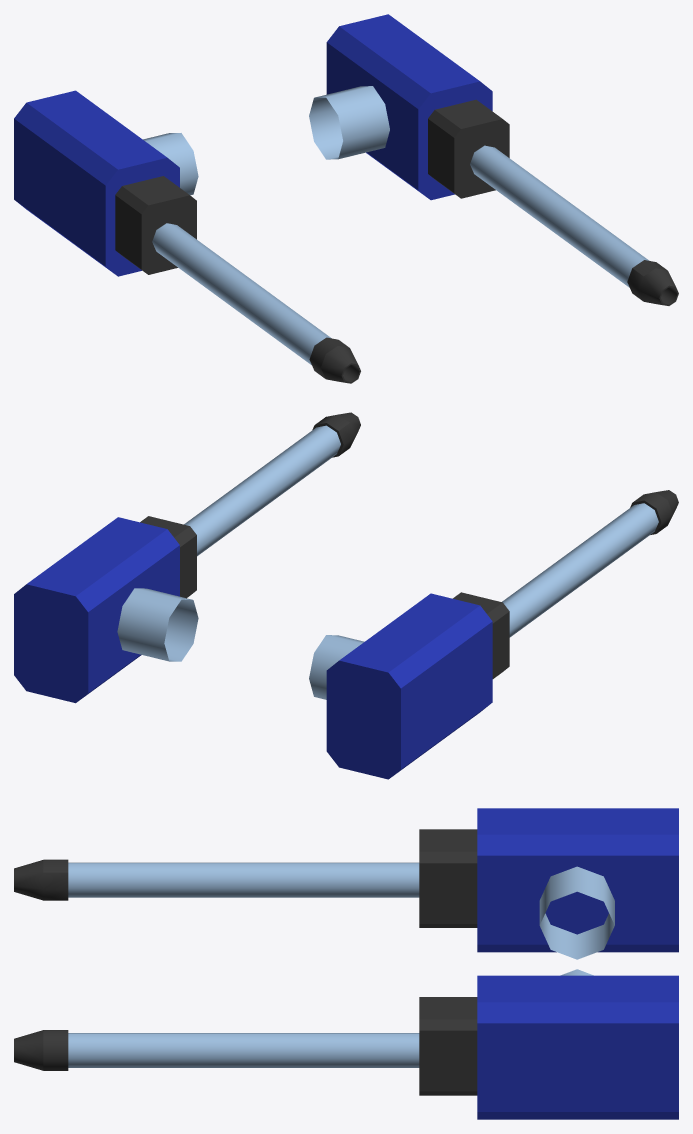
File: Turret_Gun.FBX
3 views of the same model, one above another, from view 1: azimuth 30°, elevation 25°; view 2: azimuth 150°, elevation 25°; view 3: azimuth 270°, elevation 25° (orthographic). The views are drawn at different scales.
Parts seen in each view (by area): view 1: Barrel; view 2: Barrel; view 3: Barrel.
Part boxes in pixels (x1=…): Barrel: x1=14, y1=14, x2=678, y2=383; Barrel: x1=14, y1=412, x2=678, y2=779; Barrel: x1=14, y1=808, x2=678, y2=1119.
Bounding box in the file's own units: 94.5 × 128 × 24.96.
